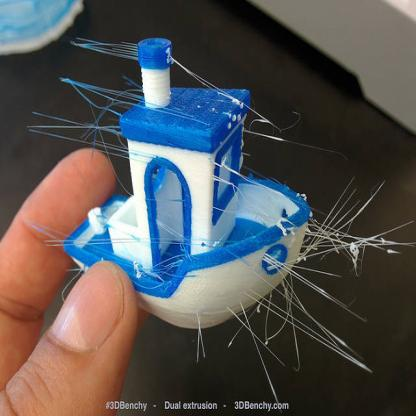fail: (310, 179, 410, 357), (70, 36, 141, 103)
